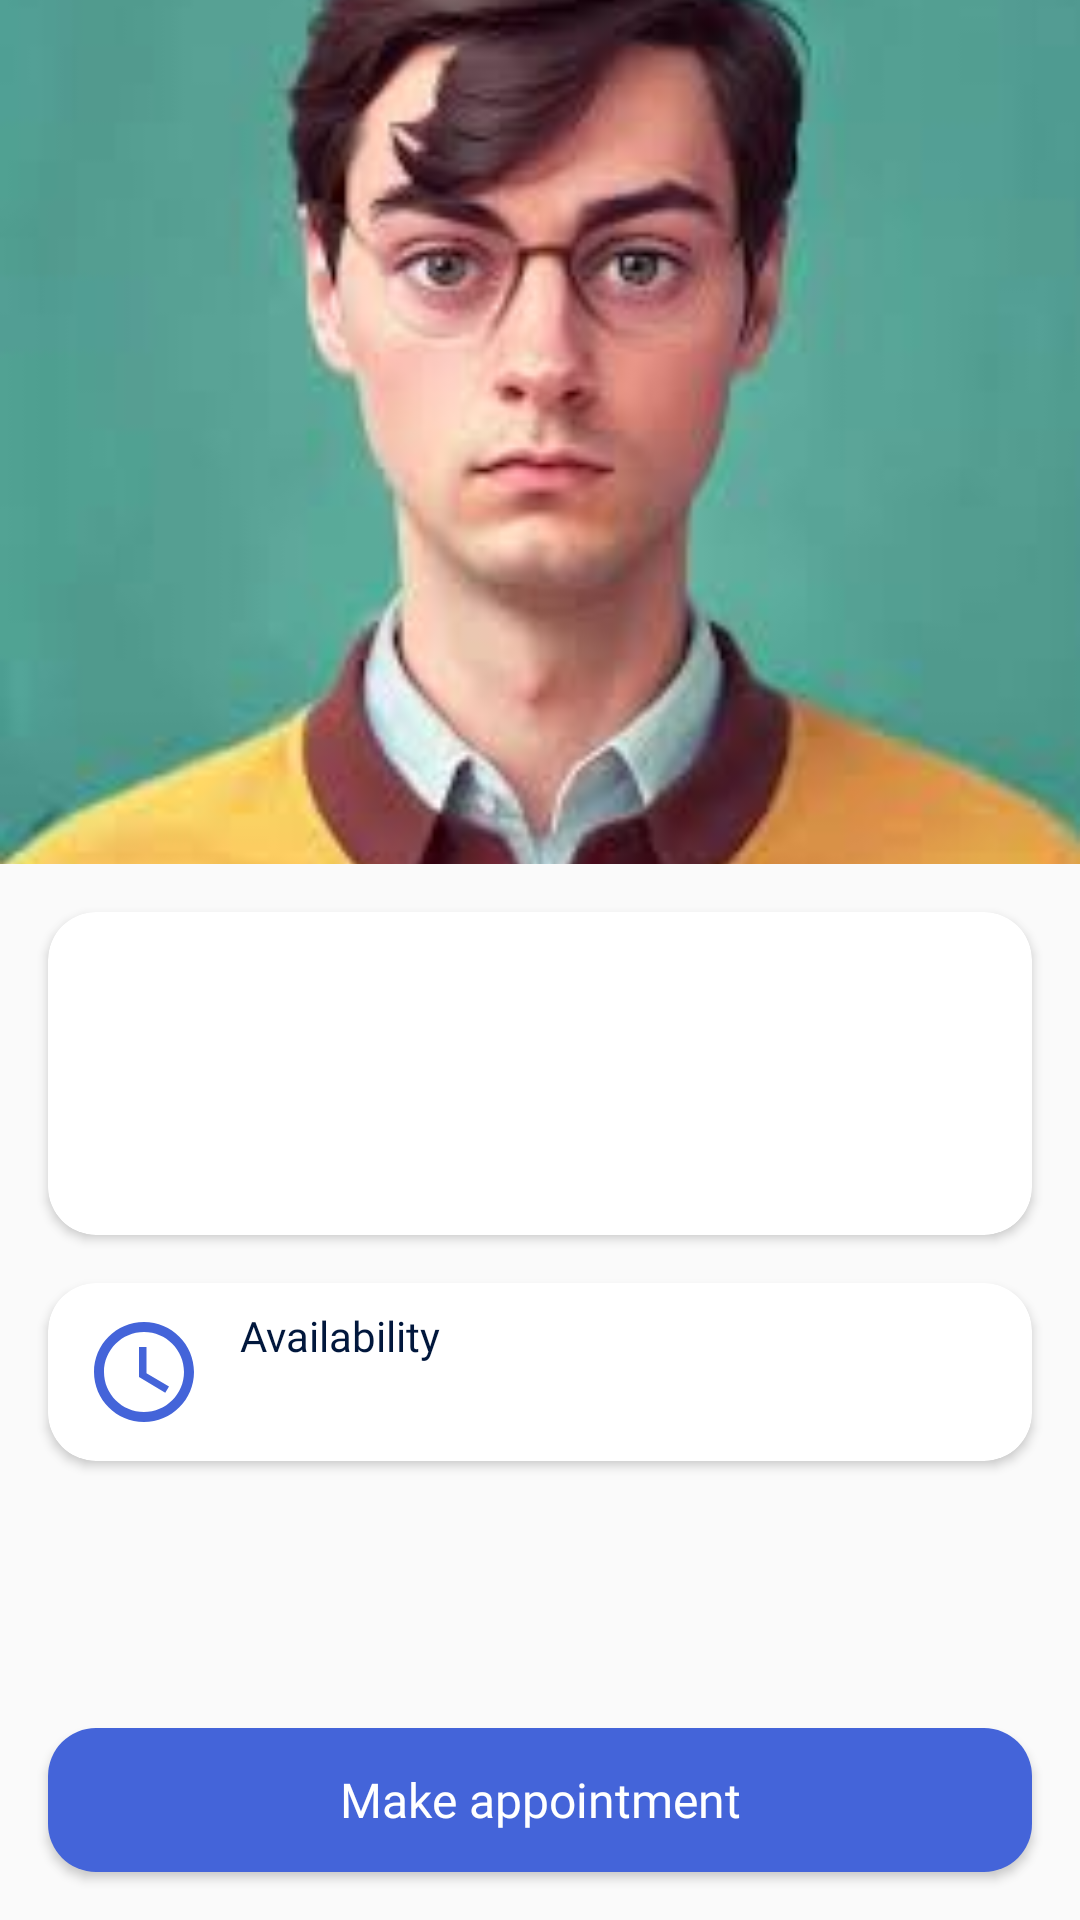

Named icons in this screenshot (1080w x 1920h) and their bounding boxes, (x1, y1, x2, y2):
access time: (94, 1322, 194, 1422)
